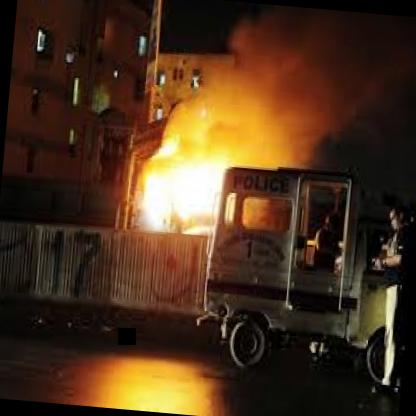fire: (98, 103, 283, 297)
